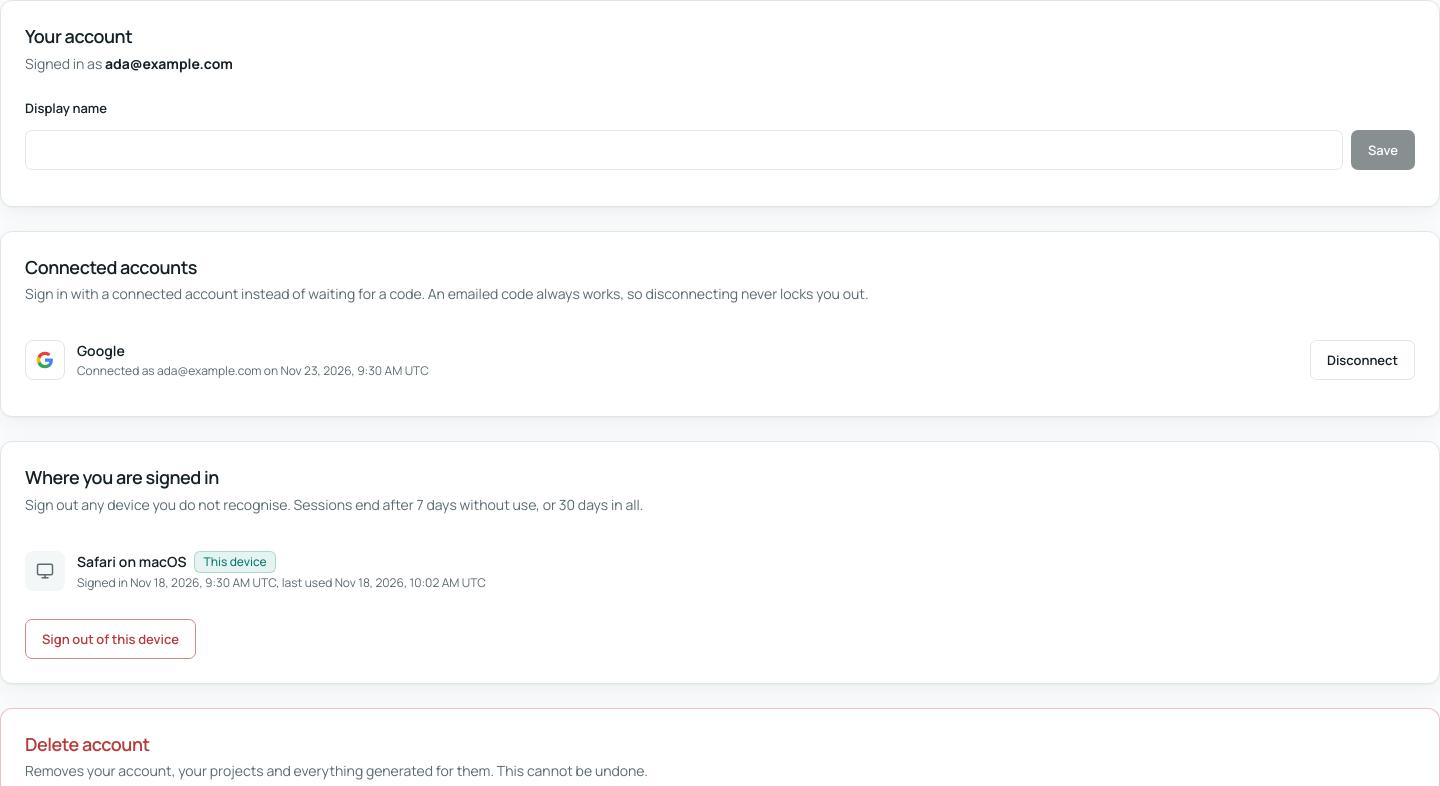
Scenario: AccountView: connected accounts › shows a disconnect failure and keeps the account listed
Click the button with aria-label "Disconnect Google".
click(1362, 360)  # box [1310,340,1415,380]
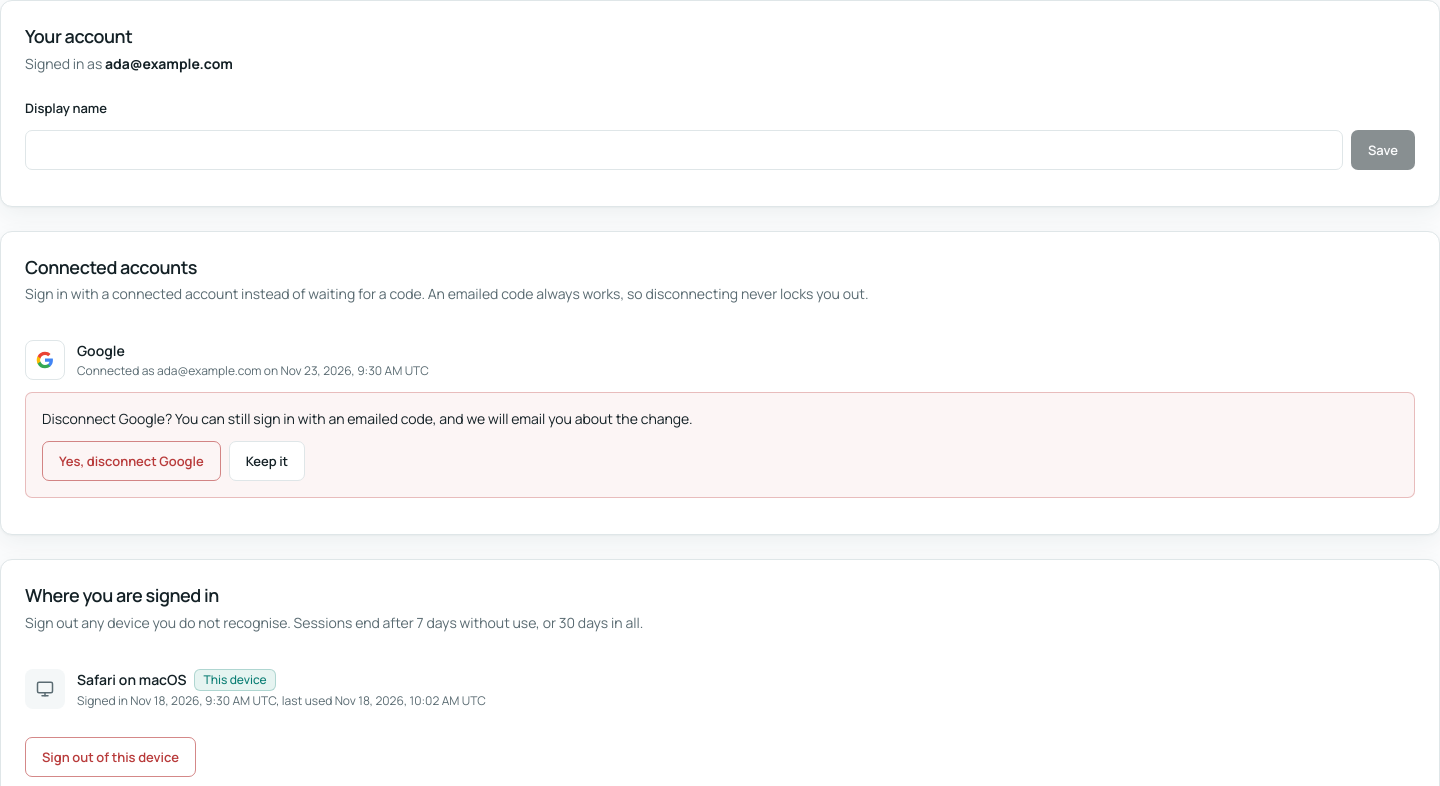
Click the button "Yes, disconnect Google".
click(131, 461)  # box [42,441,221,481]
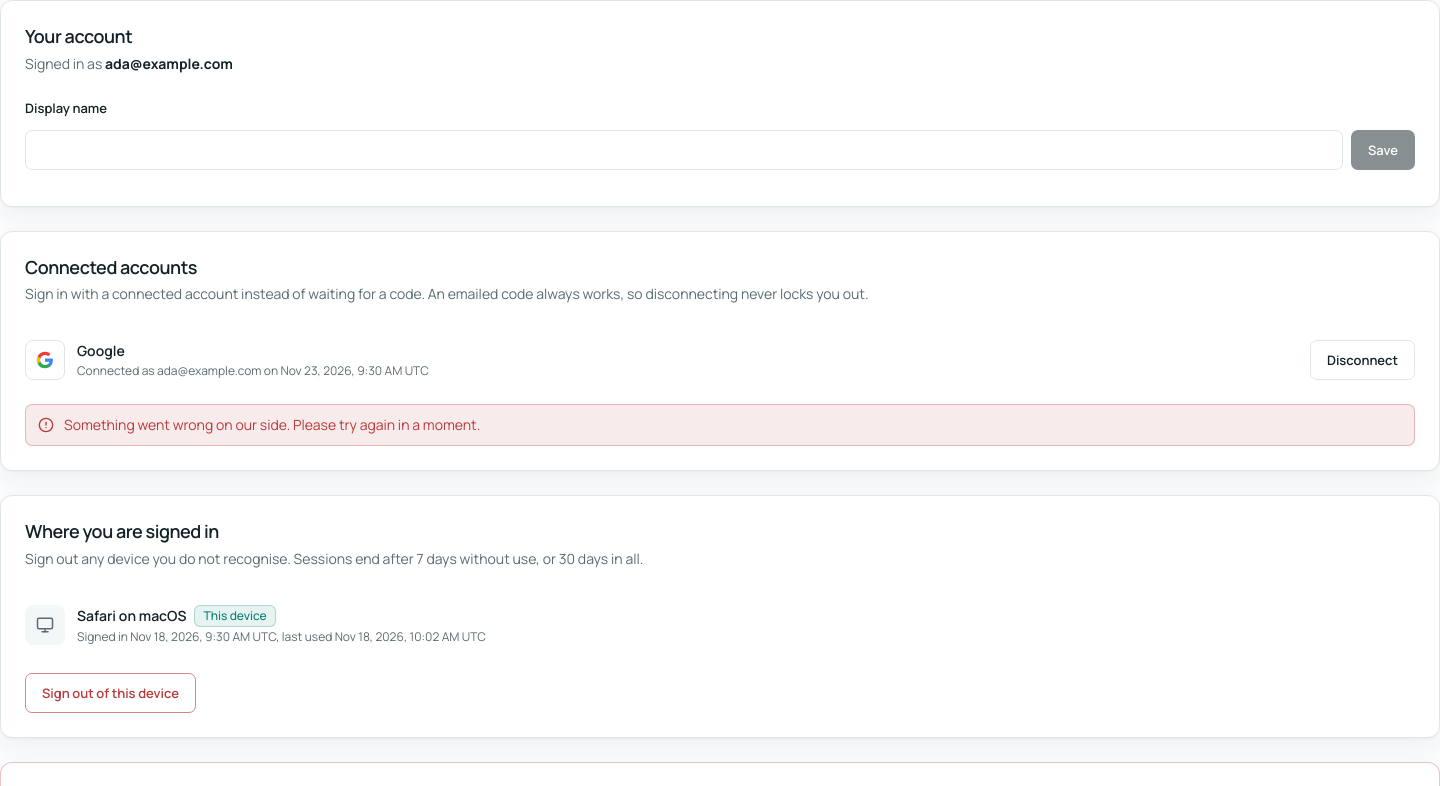
Expected: the button with aria-label "Disconnect Google" is shown, [1310,340,1415,380]
Expected: the message shows "Something went wrong", [64,415,480,434]
